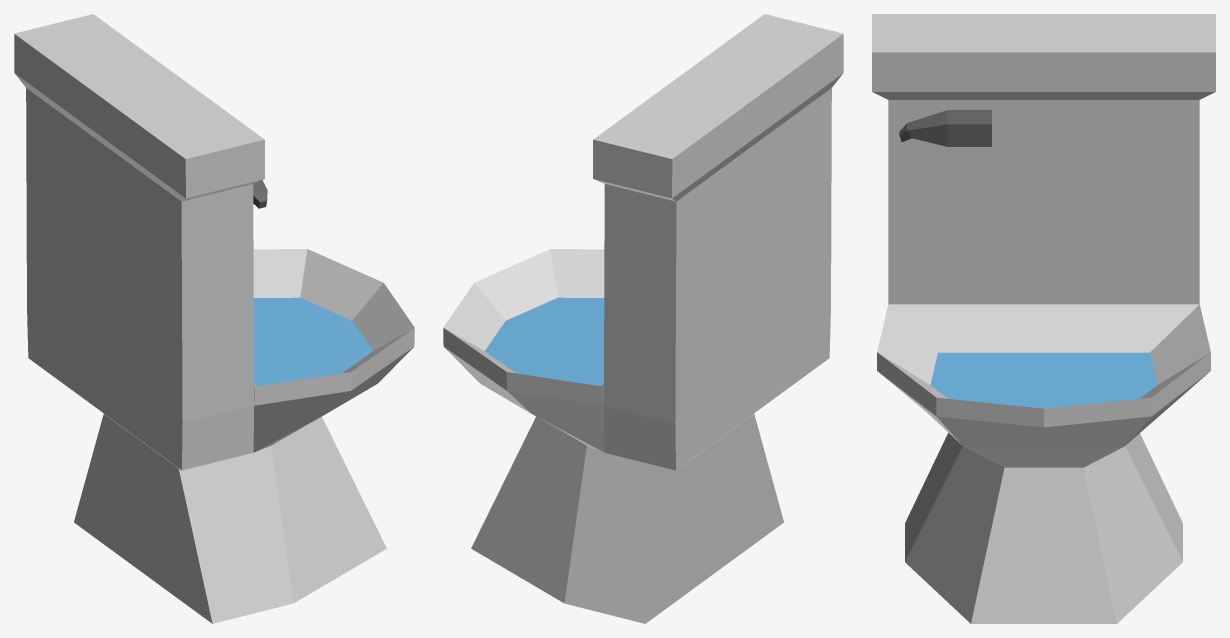
File: toilet.fbx
The picture shows the model from 3 angles, left to right: view 1: azimuth 30°, elevation 25°; view 2: azimuth 150°, elevation 25°; view 3: azimuth 270°, elevation 25°; orthographic projection.
Visible parts, largest first — view 1: Cube; view 2: Cube; view 3: Cube.
Part boxes in pixels (bbox=[...]): Cube: bbox=[14, 14, 414, 623]; Cube: bbox=[443, 14, 843, 623]; Cube: bbox=[872, 14, 1215, 623].
Size of the model in its own units: 449 by 738 by 470.
